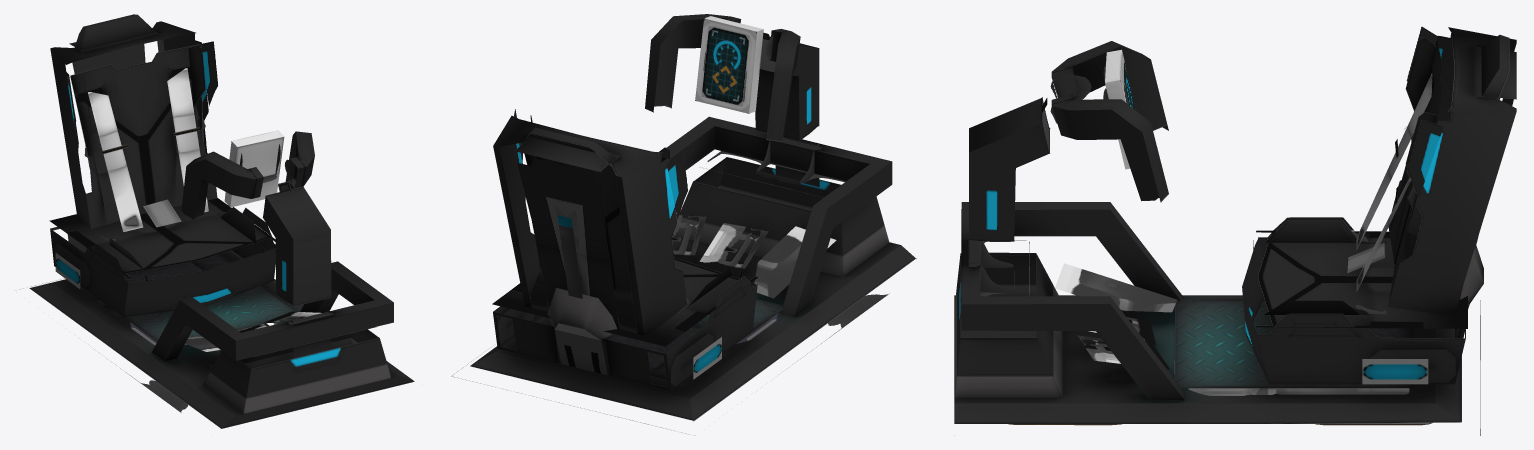
Rendered from obj_interactive_driverseat_04_lod1.fbx.
3 renders of one model, left to right at view 1: azimuth 30°, elevation 25°; view 2: azimuth 150°, elevation 25°; view 3: azimuth 270°, elevation 25°, orthographic. The views are drawn at different scales.
Visible parts, largest first — view 1: polySurface55; view 2: polySurface55; view 3: polySurface55.
Boxes of the visible parts, x1,y1,x2,y2 form: polySurface55: [19, 14, 414, 428]; polySurface55: [451, 14, 916, 435]; polySurface55: [954, 26, 1516, 435].
Size of the model in its own units: 3.5 by 3.8 by 6.14.
1 material, 1 textured.
